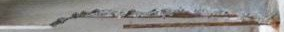Exposed reinforcement: (122, 20, 284, 29), (98, 12, 239, 18)
Spalling: (49, 8, 280, 32)
